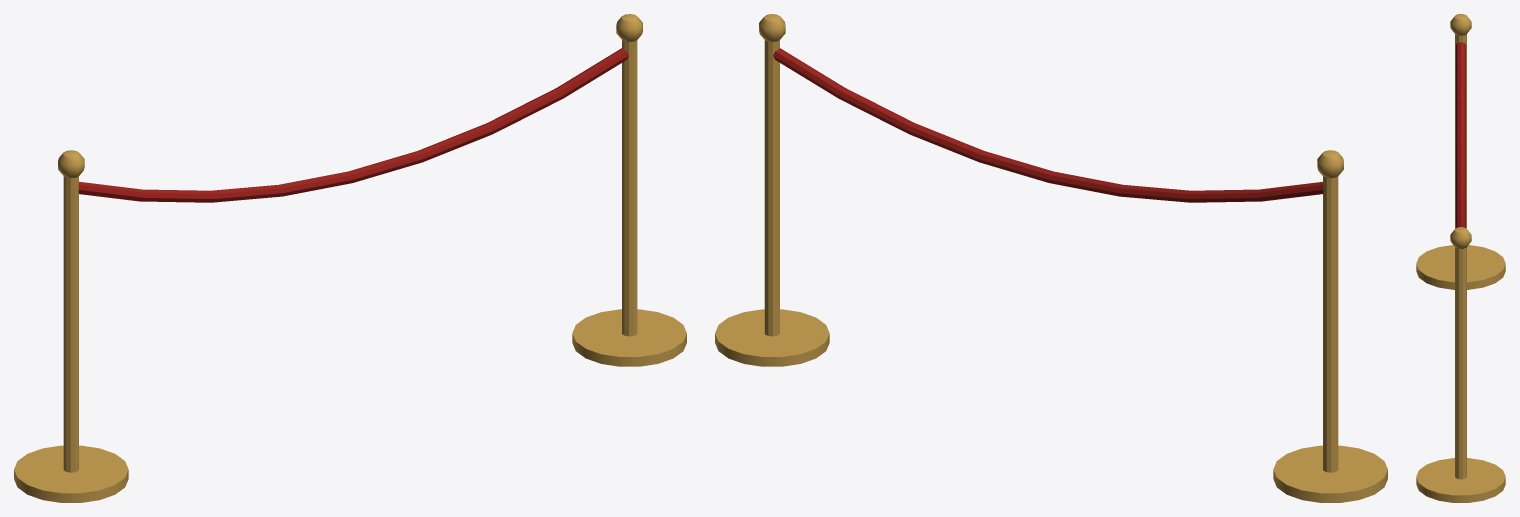
File: venue.foyer.rope_barrier.glb
The picture shows the model from 3 angles, left to right: view 1: azimuth 30°, elevation 25°; view 2: azimuth 150°, elevation 25°; view 3: azimuth 270°, elevation 25°; orthographic projection. The views are drawn at different scales.
Visible parts, largest first — view 1: main__brass, main__fabric_red; view 2: main__brass, main__fabric_red; view 3: main__brass, main__fabric_red.
Boxes of the visible parts, x1,y1,x2,y2 form: main__brass: [14, 14, 686, 502]; main__fabric_red: [78, 48, 628, 202]; main__brass: [715, 14, 1387, 502]; main__fabric_red: [773, 48, 1323, 202]; main__brass: [1416, 14, 1505, 502]; main__fabric_red: [1456, 42, 1465, 227].
Bounding box in the file's own units: 2.12 × 1.01 × 0.32.
